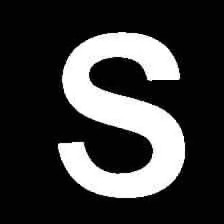LTR_S: (49, 23, 194, 204)
